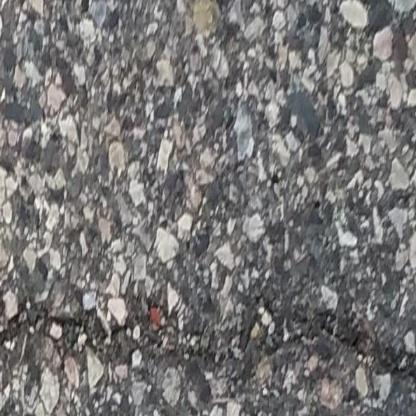Cracks: (0, 302, 416, 405)
